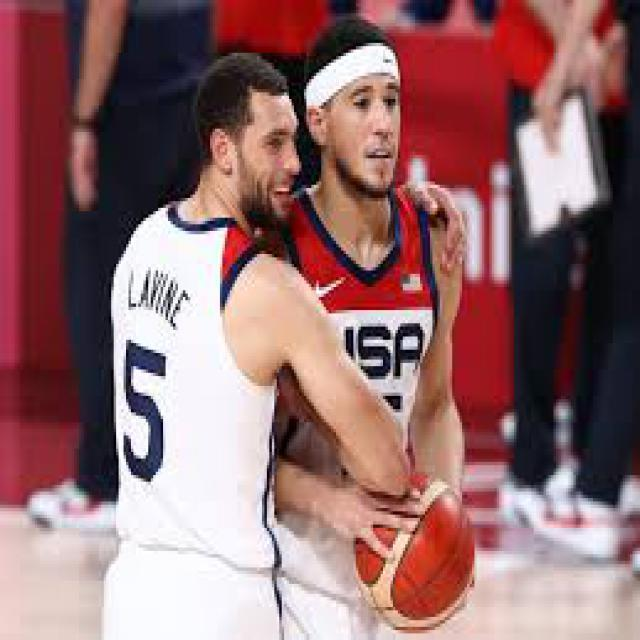basketball: (351, 472, 477, 630)
